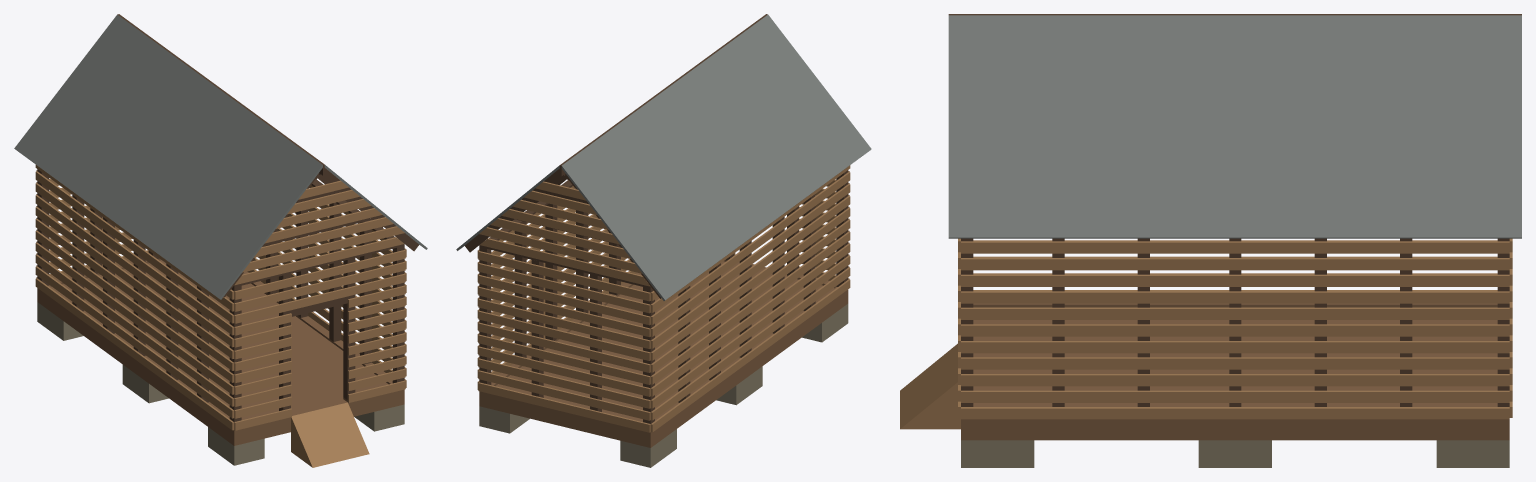
File: corncrib.glb
3 views of the same model, side by side, from view 1: azimuth 30°, elevation 25°; view 2: azimuth 150°, elevation 25°; view 3: azimuth 270°, elevation 25° (orthographic). The views are drawn at different scales.
Visible parts, largest first — view 1: Cube; view 2: Cube; view 3: Cube.
Boxes of the visible parts, left/top/right/bottom form: Cube: left=14, top=14, right=427, bottom=467; Cube: left=456, top=14, right=871, bottom=467; Cube: left=900, top=14, right=1521, bottom=467.
Size of what is drawn, in the model's own units: 5.5 by 7.15 by 10.2.
